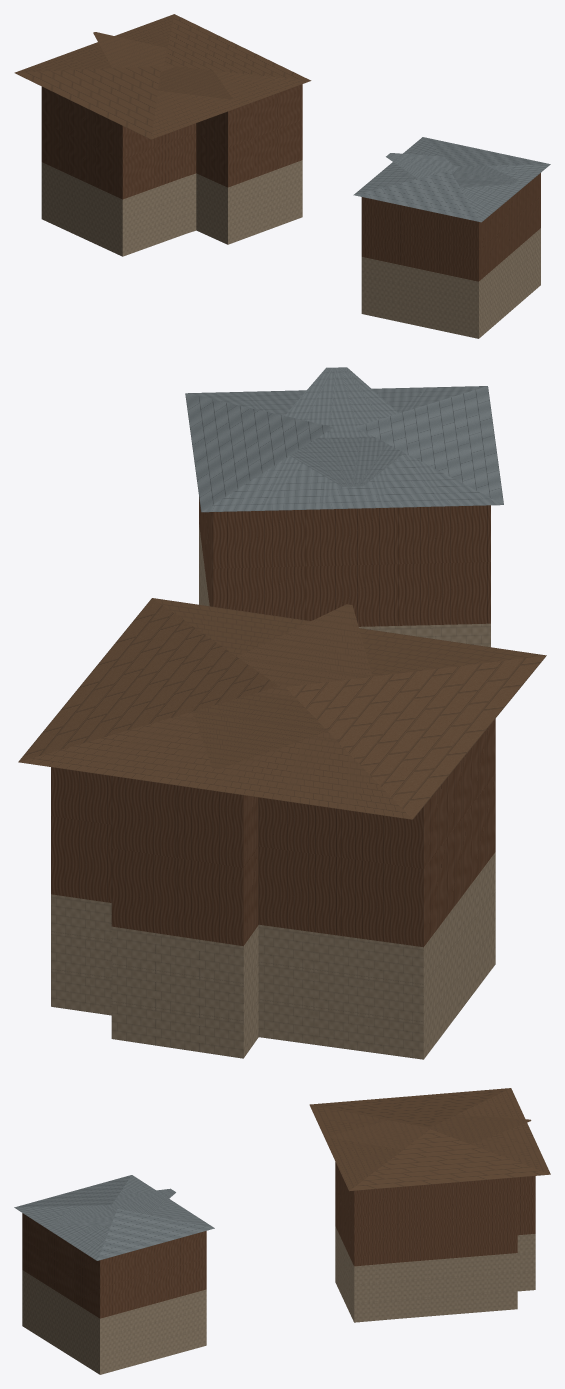
File: bld_c43_33_258.gltf
The picture shows the model from 3 angles, top to bottom: view 1: azimuth 30°, elevation 25°; view 2: azimuth 150°, elevation 25°; view 3: azimuth 270°, elevation 25°; orthographic projection. The views are drawn at different scales.
Parts seen in each view (by area): view 1: bld_c43_33_258; view 2: bld_c43_33_258; view 3: bld_c43_33_258.
Boxes of the visible parts, x1=… form: bld_c43_33_258: x1=14, y1=14, x2=550, y2=338; bld_c43_33_258: x1=18, y1=367, x2=546, y2=1059; bld_c43_33_258: x1=14, y1=1088, x2=550, y2=1374.
Size of the model in its own units: 30.46 by 13.2 by 44.15.
Materials: 4 (4 with a texture image).
